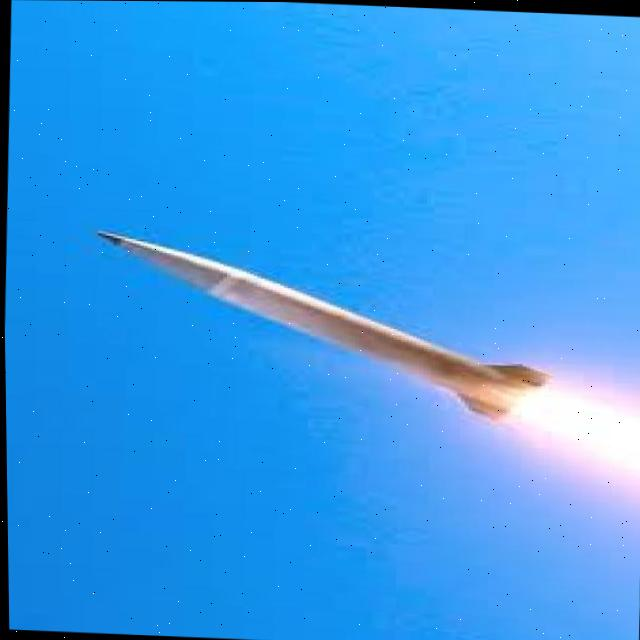missile: (75, 220, 578, 446)
